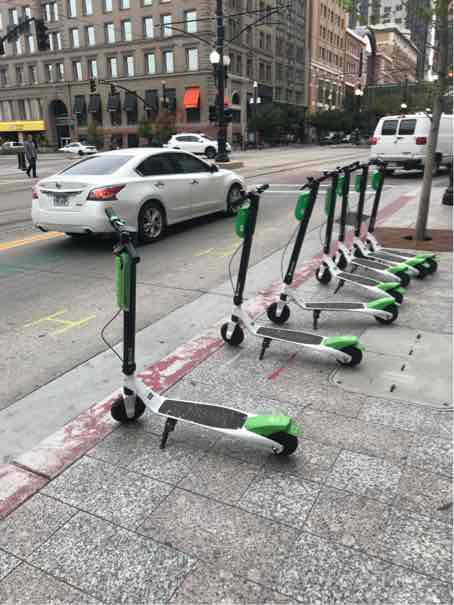scooter: (92, 204, 304, 459), (215, 182, 367, 372), (268, 178, 399, 326), (312, 169, 398, 301), (362, 159, 444, 274)
